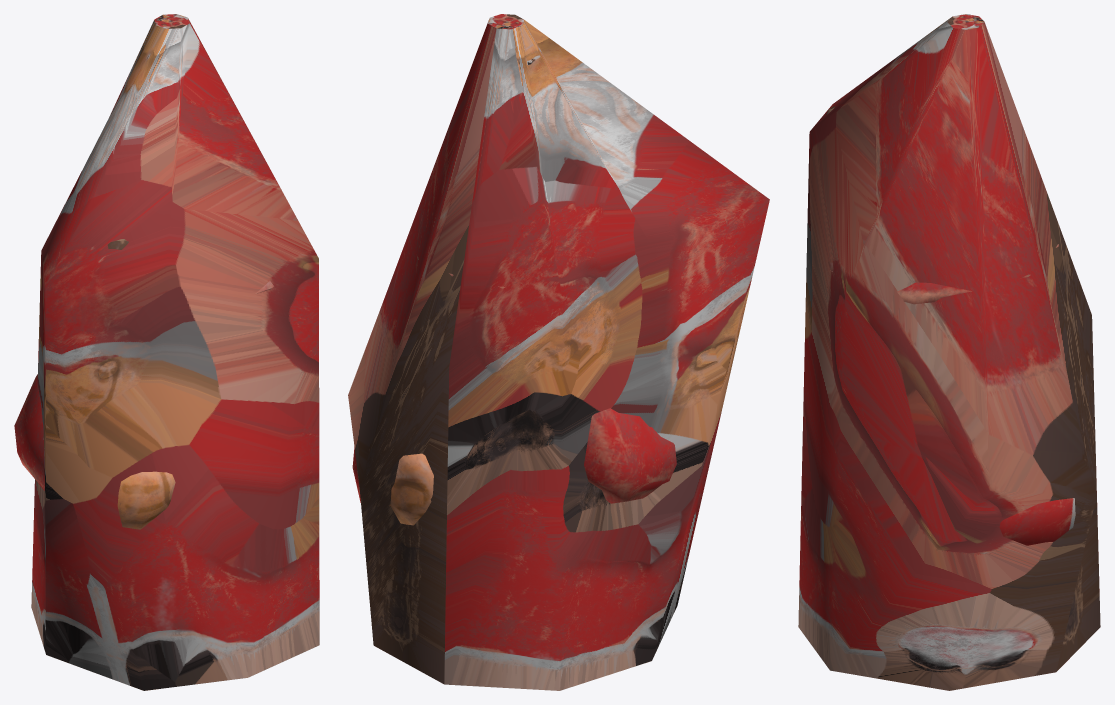
File: garden_gnome_E.FBX
The picture shows the model from 3 angles, left to right: view 1: azimuth 30°, elevation 25°; view 2: azimuth 150°, elevation 25°; view 3: azimuth 270°, elevation 25°; orthographic projection. The views are drawn at different scales.
Visible parts, largest first — view 1: garden_gnome_E_COL, garden_gnome_E_LOD0; view 2: garden_gnome_E_COL, garden_gnome_E_LOD0; view 3: garden_gnome_E_COL, garden_gnome_E_LOD0.
Boxes of the visible parts, x1,y1,x2,y2 form: garden_gnome_E_COL: [31, 14, 319, 690]; garden_gnome_E_LOD0: [14, 239, 273, 529]; garden_gnome_E_COL: [348, 14, 769, 690]; garden_gnome_E_LOD0: [352, 254, 676, 525]; garden_gnome_E_COL: [798, 14, 1100, 690]; garden_gnome_E_LOD0: [826, 106, 1075, 545].
Size of what is drawn, in the model's own units: 27.78 by 48.02 by 21.34.
